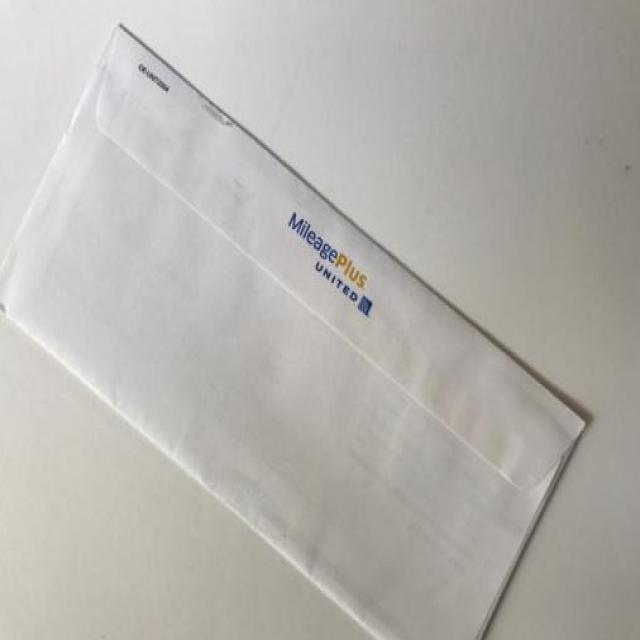kertas: (0, 25, 592, 640)
